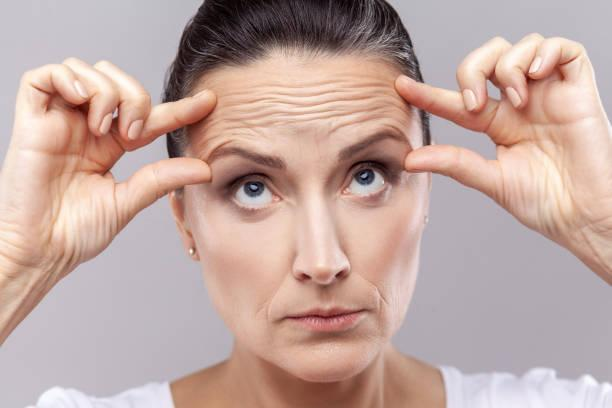Dry-Skin: (224, 75, 393, 142)
